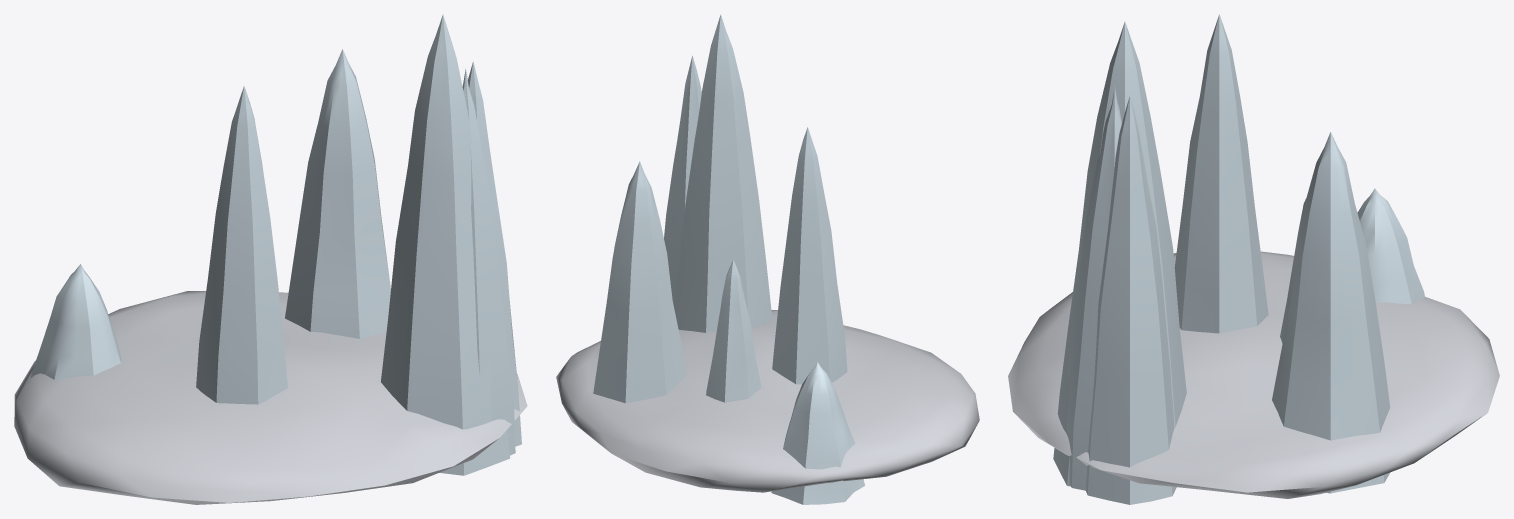
File: ice-stalagmites-v01.glb
The picture shows the model from 3 angles, left to right: view 1: azimuth 30°, elevation 25°; view 2: azimuth 150°, elevation 25°; view 3: azimuth 270°, elevation 25°; orthographic projection. The views are drawn at different scales.
Parts seen in each view (by area): view 1: ice-stalagmites; view 2: ice-stalagmites; view 3: ice-stalagmites.
Part boxes in pixels (x1,y1,x2,y2): ice-stalagmites: [14, 14, 527, 504]; ice-stalagmites: [556, 14, 979, 504]; ice-stalagmites: [1008, 14, 1499, 504].
Bounding box in the file's own units: 2.05 × 1.8 × 1.8.
Materials: 2 (1 with a texture image).
